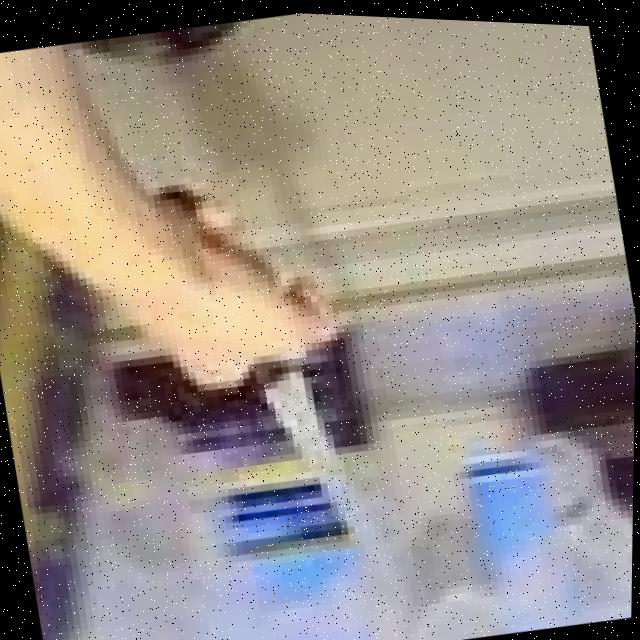knife: (245, 341, 395, 583)
